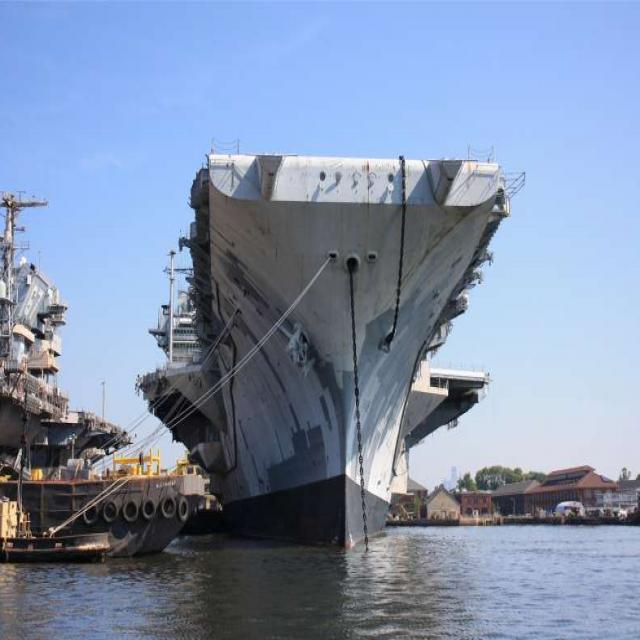Portanaves: (149, 51, 517, 559)
